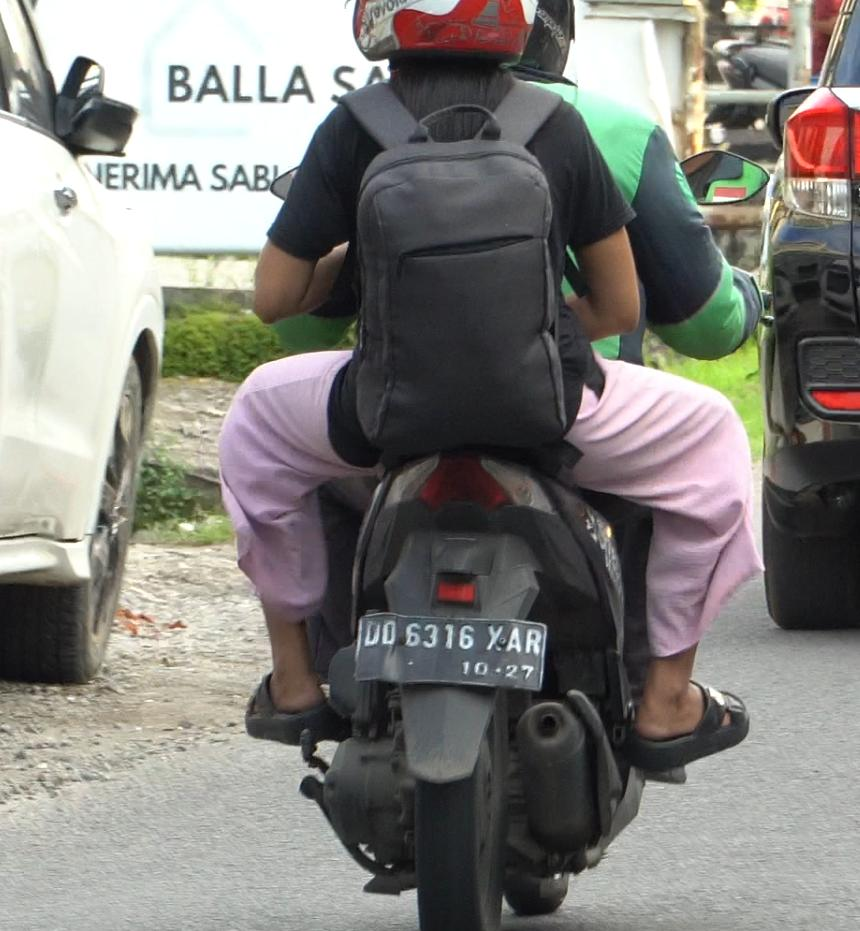number-plate: (351, 609, 548, 692)
